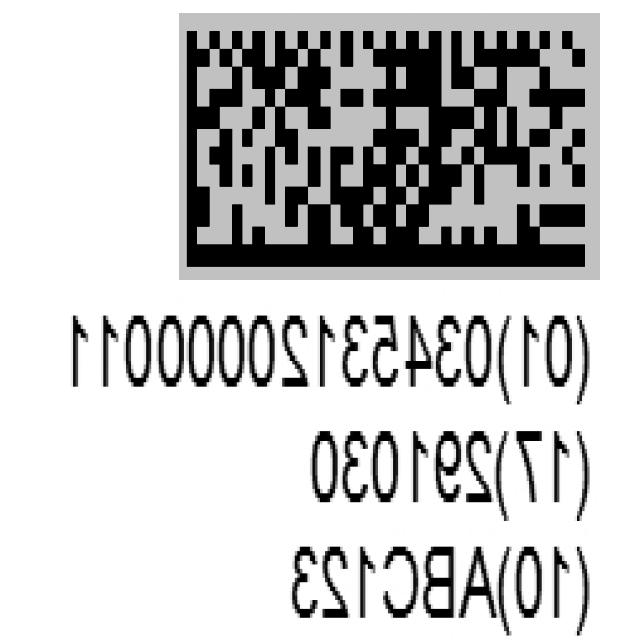DataMatrix: (179, 13, 600, 280)
